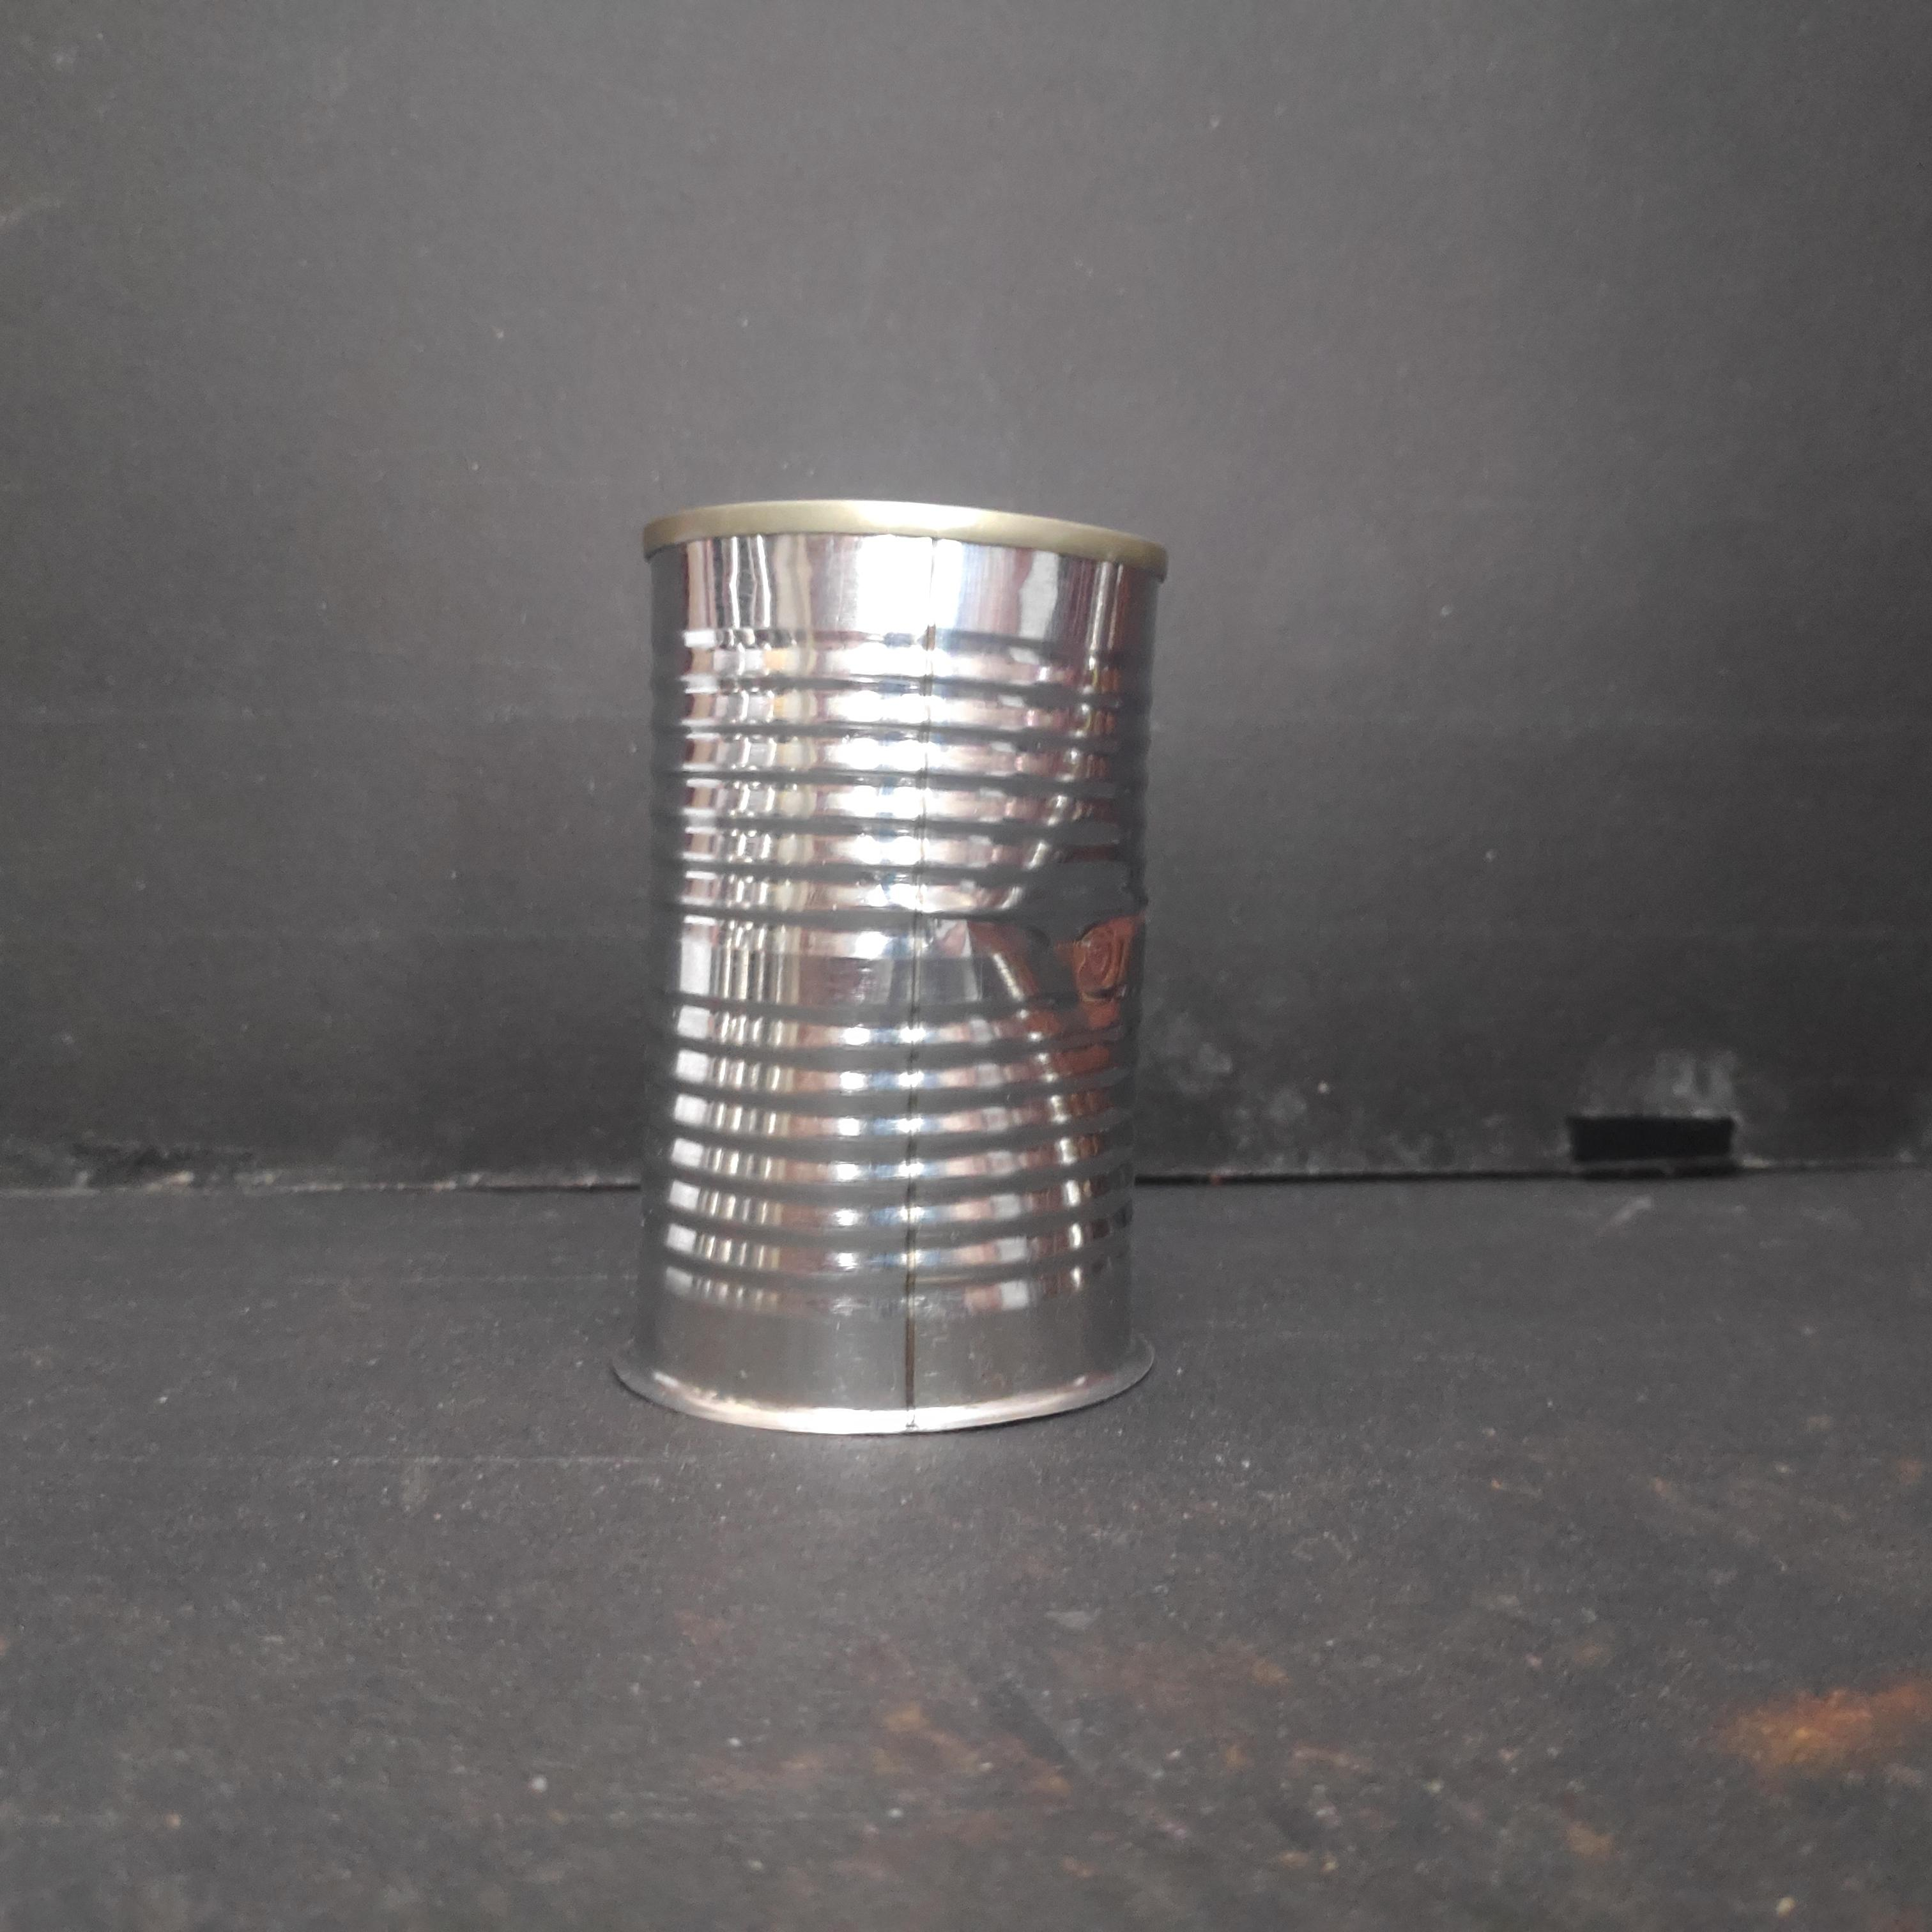Minor Defect: (621, 492, 1182, 1445)
